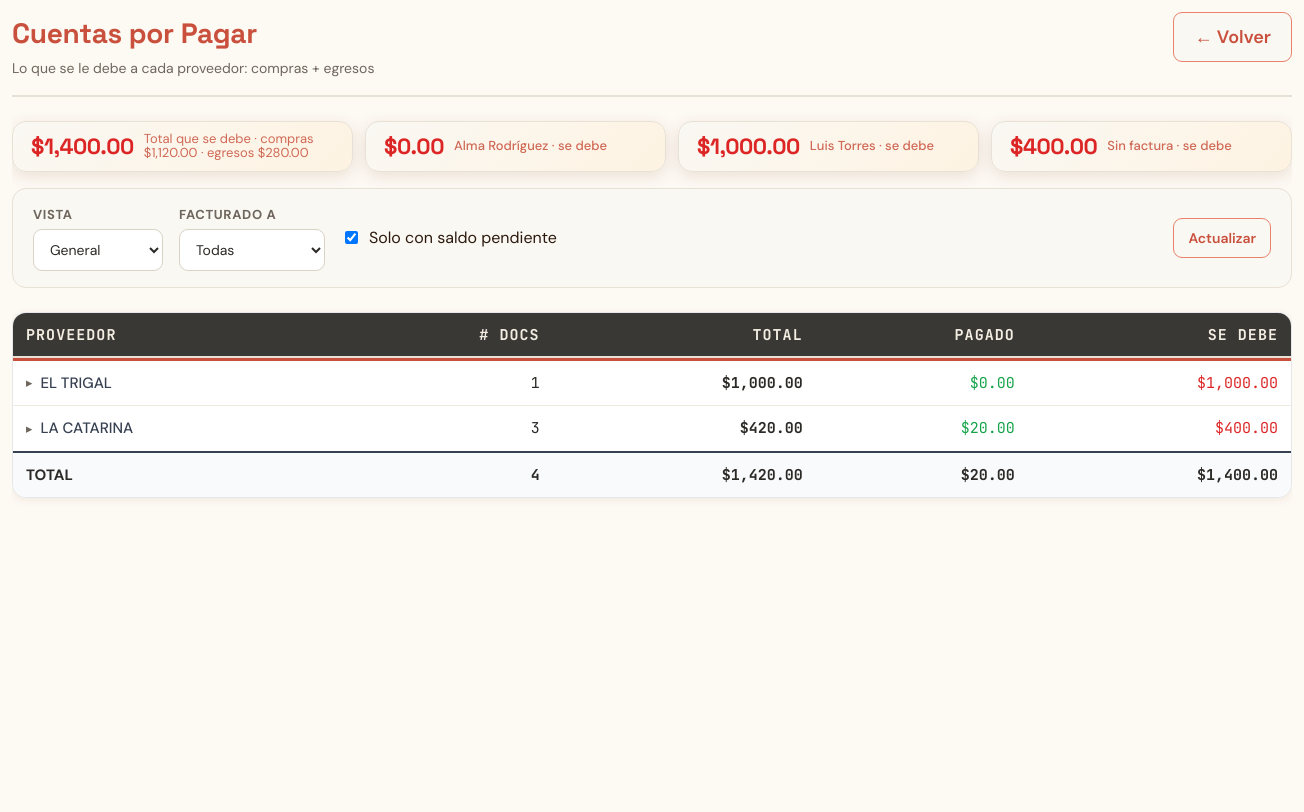
Test case: CxP — vistas General / Compras / Egresos › 🔴 vista Compras: el desglose enseña solo la compra y cambiar de vista no vuelve a pedir
The image size is (1304, 812).
Check: the button "▸ LA CATARINA" is shown, box 26,417 -> 133,440
Select "Compras" in the dropdown labelled "Vista" at (98, 250), box 33,229 -> 163,271
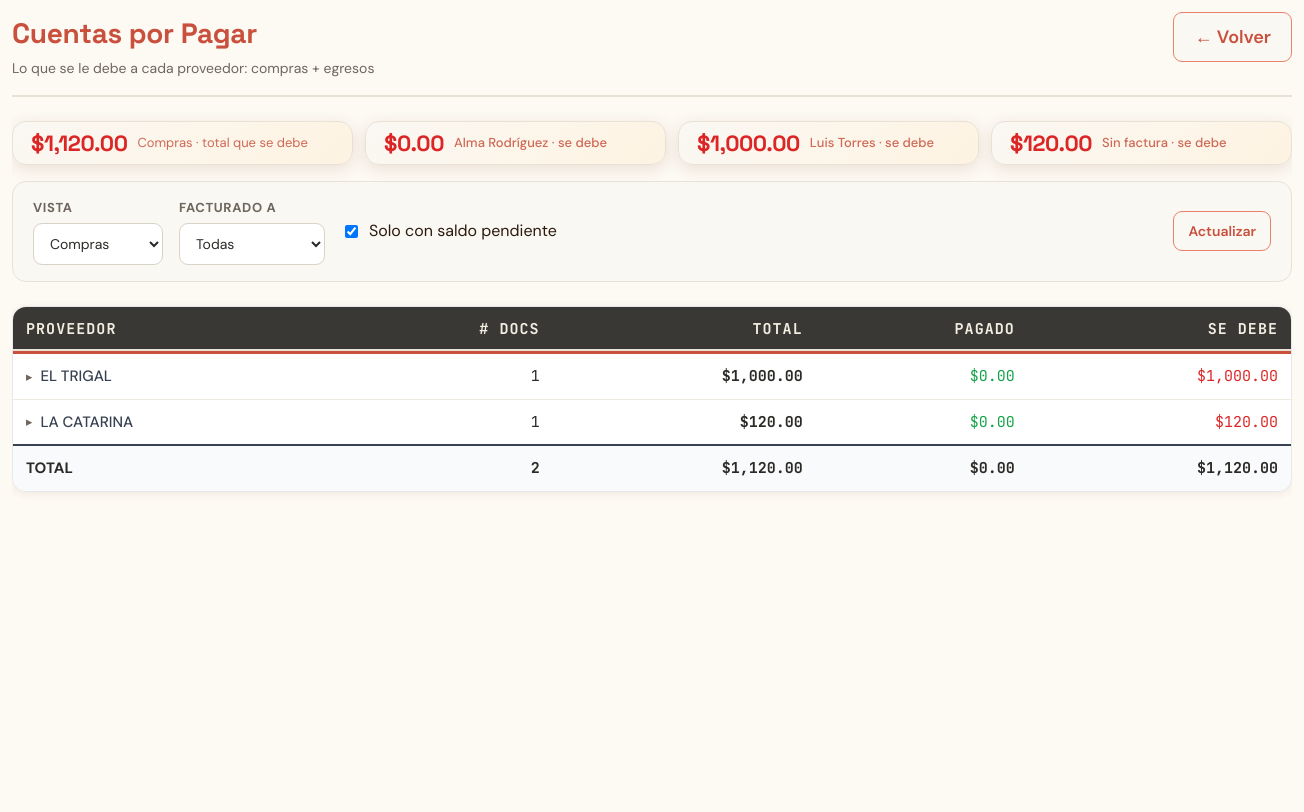
Click the button "▸ LA CATARINA" at (80, 422), box 26,410 -> 133,433
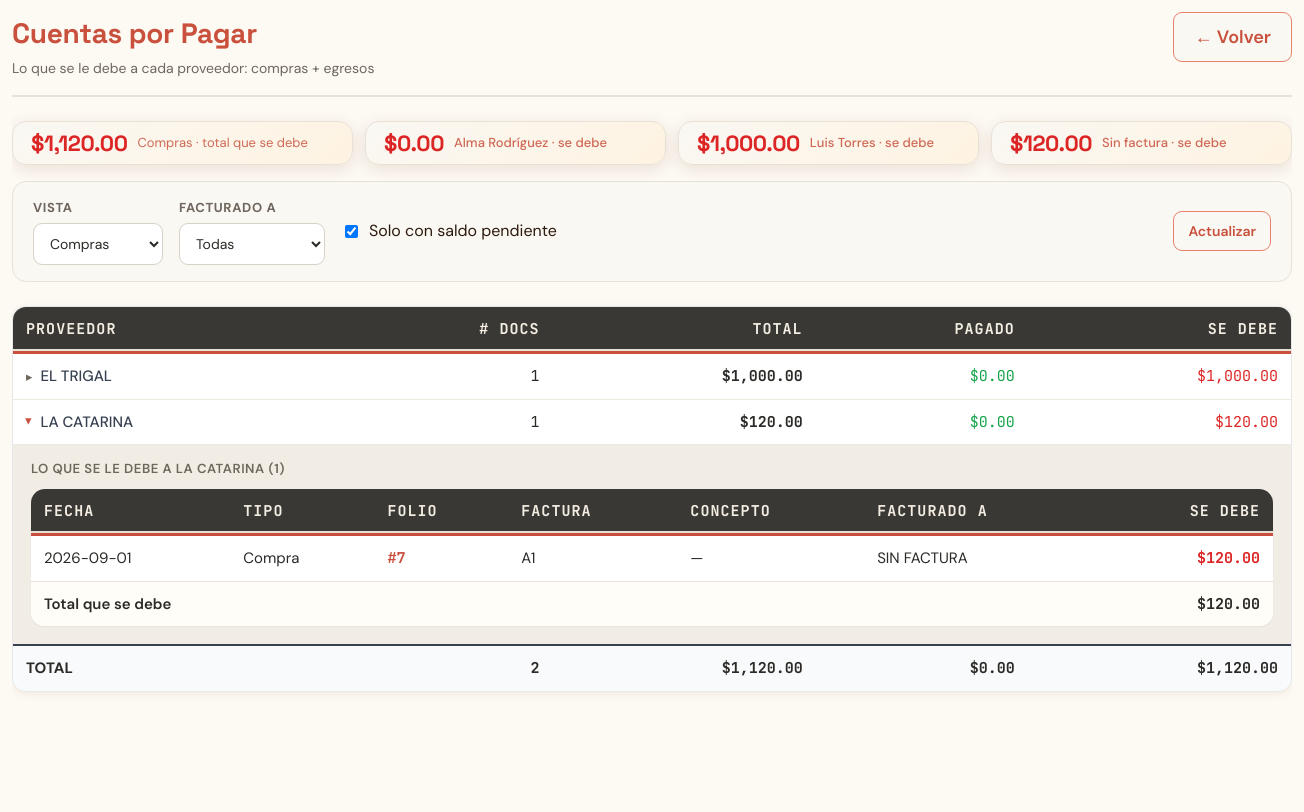
Check: the text "#8" is not shown
Check: the text "#7" is shown, box 374,535 -> 508,581
Check: the text "Lo que se le debe a LA CATARINA (1)" is shown, box 31,460 -> 285,477
Select "General" in the dropdown labelled "Vista" at (98, 244), box 33,222 -> 163,264
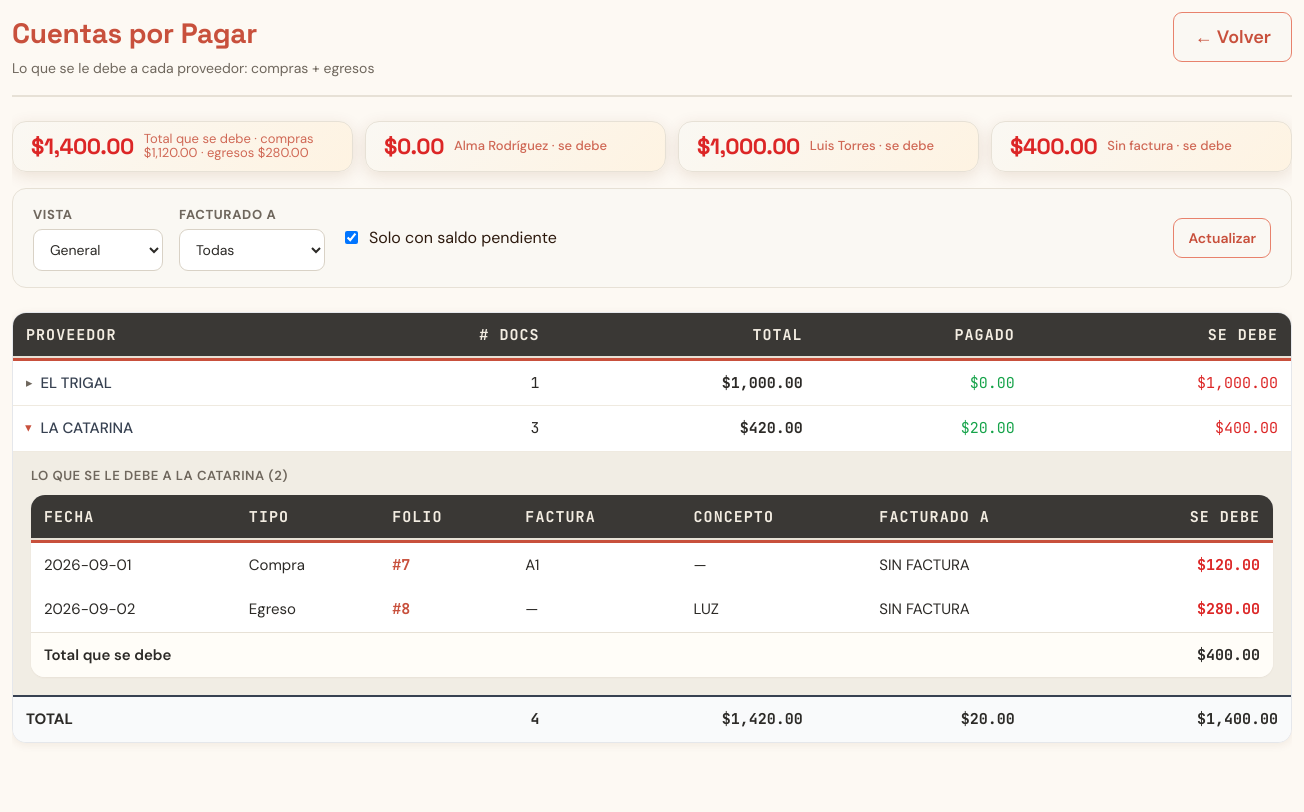
Check: the text "#8" is shown, box 379,587 -> 512,632
Check: the text "Lo que se le debe a LA CATARINA (2)" is shown, box 31,467 -> 288,484
